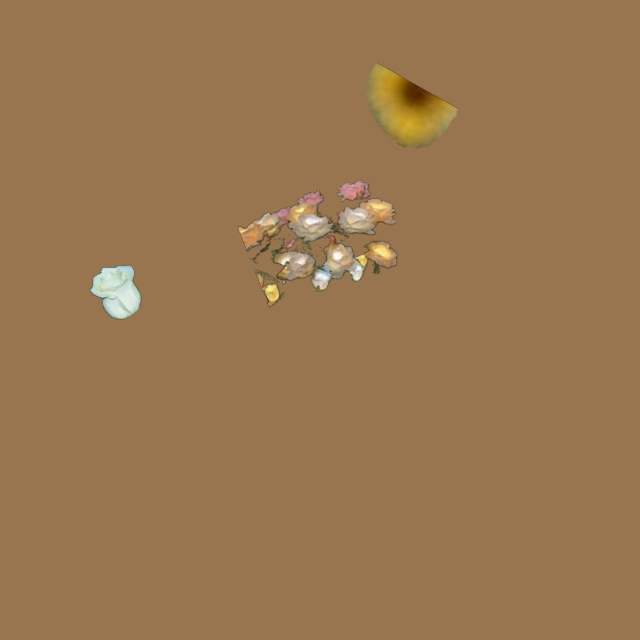rose: (238, 181, 396, 307), (90, 265, 141, 318)
sunflower: (366, 63, 457, 147)
